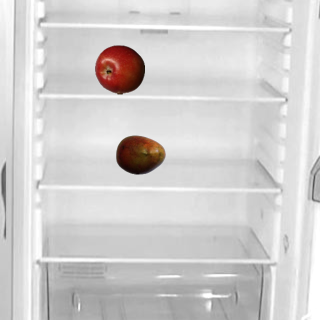Apple Braeburn: (94, 44, 144, 94)
Mango Red: (115, 129, 165, 179)
